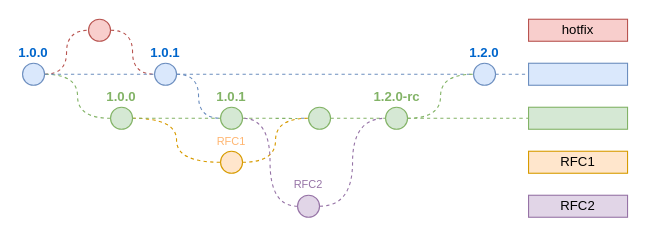
The diagram is 647 pixels wide and 237 high, and some of its shapes have lost their labels. The centre of each missing label's shape, as x and y in pixels:
"1.1.0-rc" belongs at (x=319, y=117).
"develop" belongs at (x=577, y=117).
"main" belongs at (x=577, y=73).
